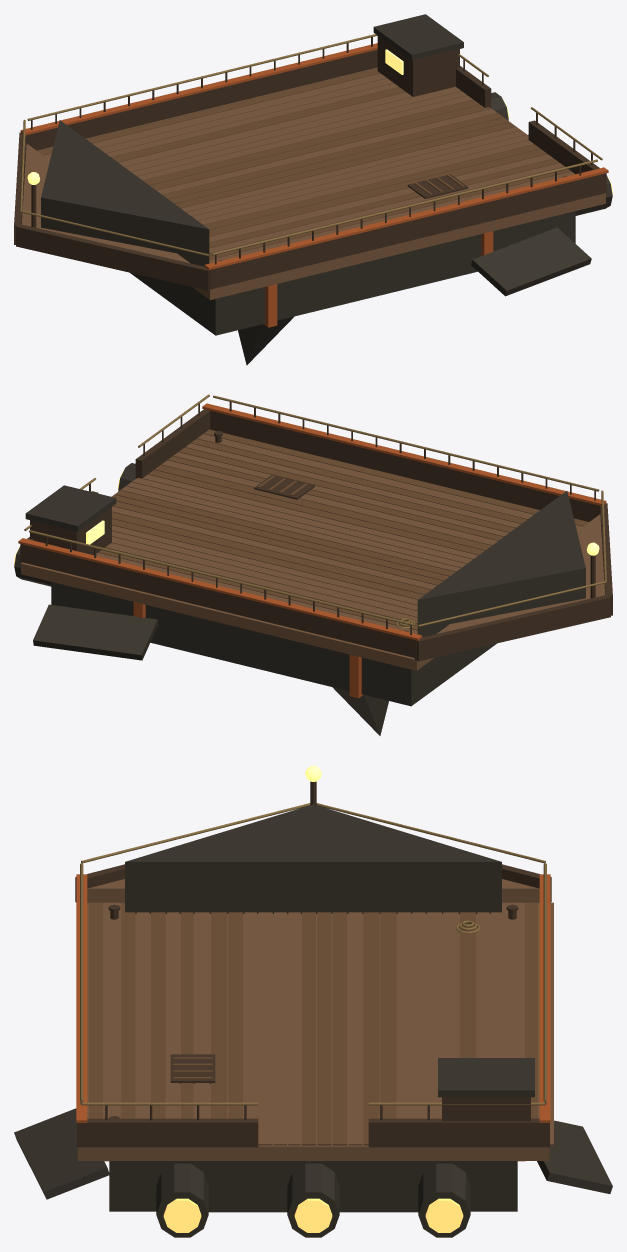
Rendered from skyship.glb.
3 renders of one model, top to bottom at view 1: azimuth 30°, elevation 25°; view 2: azimuth 150°, elevation 25°; view 3: azimuth 270°, elevation 25°, orthographic. The views are drawn at different scales.
Visible parts, largest first — view 1: Cube.001, tri.001, Cube.003, Cube.006, Cube.004, Cube, Cube.013, Cube.009, Cube.015, Cube.016, Cube.010, Cube.036 (+36 smaller); view 2: Cube.001, tri.001, Cube.006, Cube.003, Cube.014, Cube.007, Cube, Cube.010, Cube.009, Cube.016, Cube.019, Cube.026 (+35 smaller); view 3: tri.001, Cube, Cube.001, Cube.005, Cube.008, Cube.013, Cube.016, Cube.036, Cube.029, Cube.033, Cube.034, Cube.035 (+44 smaller).
Boxes of the visible parts, <box> form: Cube.001: <box>130,211,575,335</box>; tri.001: <box>41,120,209,266</box>; Cube.003: <box>210,173,606,289</box>; Cube.006: <box>26,49,377,150</box>; Cube.004: <box>16,224,209,290</box>; Cube: <box>192,108,605,300</box>; Cube.013: <box>471,227,591,296</box>; Cube.009: <box>204,167,608,269</box>; Cube.015: <box>377,36,459,96</box>; Cube.016: <box>373,14,463,60</box>; Cube.010: <box>20,43,377,135</box>; Cube.036: <box>150,105,490,190</box>; Cube.001: <box>51,582,496,706</box>; tri.001: <box>417,491,585,637</box>; Cube.006: <box>20,544,416,660</box>; Cube.003: <box>210,411,600,521</box>; Cube.014: <box>33,604,157,660</box>; Cube.007: <box>417,595,610,661</box>; Cube: <box>21,479,433,670</box>; Cube.010: <box>18,538,422,640</box>; Cube.009: <box>202,403,606,505</box>; Cube.016: <box>25,485,116,531</box>; Cube.019: <box>197,434,582,530</box>; Cube.026: <box>154,465,491,550</box>; tri.001: <box>125,804,501,913</box>; Cube: <box>77,903,549,1160</box>; Cube.001: <box>109,1161,517,1211</box>; Cube.005: <box>77,1118,258,1147</box>; Cube.008: <box>368,1118,549,1147</box>; Cube.013: <box>14,1108,109,1199</box>; Cube.016: <box>438,1058,534,1097</box>; Cube.036: <box>363,912,379,1145</box>; Cube.029: <box>258,912,272,1145</box>; Cube.033: <box>317,912,331,1145</box>; Cube.034: <box>332,912,346,1145</box>; Cube.035: <box>348,912,362,1145</box>.
Bounding box in the file's own units: 29.92 × 13.02 × 22.87.
